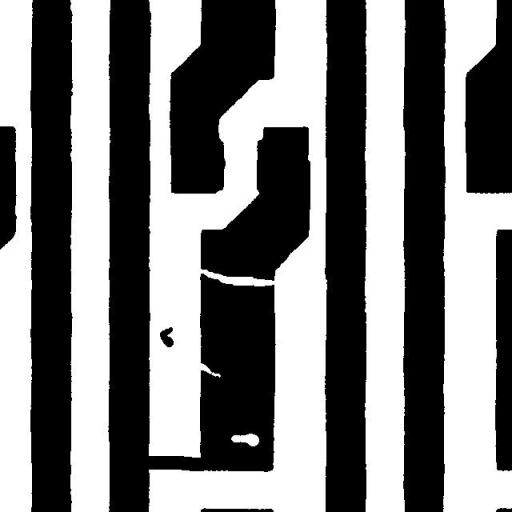copper: (152, 320, 181, 354)
mousebite: (190, 355, 228, 385)
open: (188, 260, 283, 294)
pin-hole: (224, 426, 266, 454)
short: (134, 448, 216, 478)
